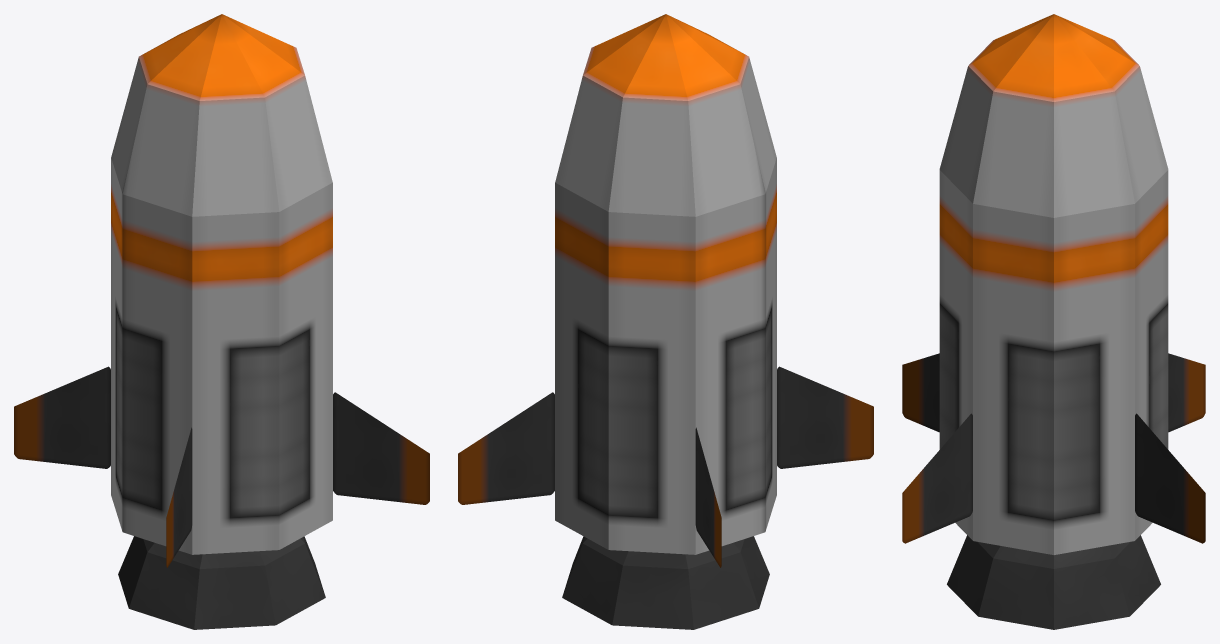
The model's file is bobmazon_drop.obj.
3 renders of one model, left to right at view 1: azimuth 30°, elevation 25°; view 2: azimuth 150°, elevation 25°; view 3: azimuth 270°, elevation 25°, orthographic.
Parts seen in each view (by area): view 1: Cylinder; view 2: Cylinder; view 3: Cylinder.
Part boxes in pixels (x1,y1,x2,y2): Cylinder: (14, 14, 429, 629); Cylinder: (458, 14, 873, 629); Cylinder: (902, 14, 1205, 629).
Bounding box in the file's own units: 1.33 × 2.75 × 1.33.
